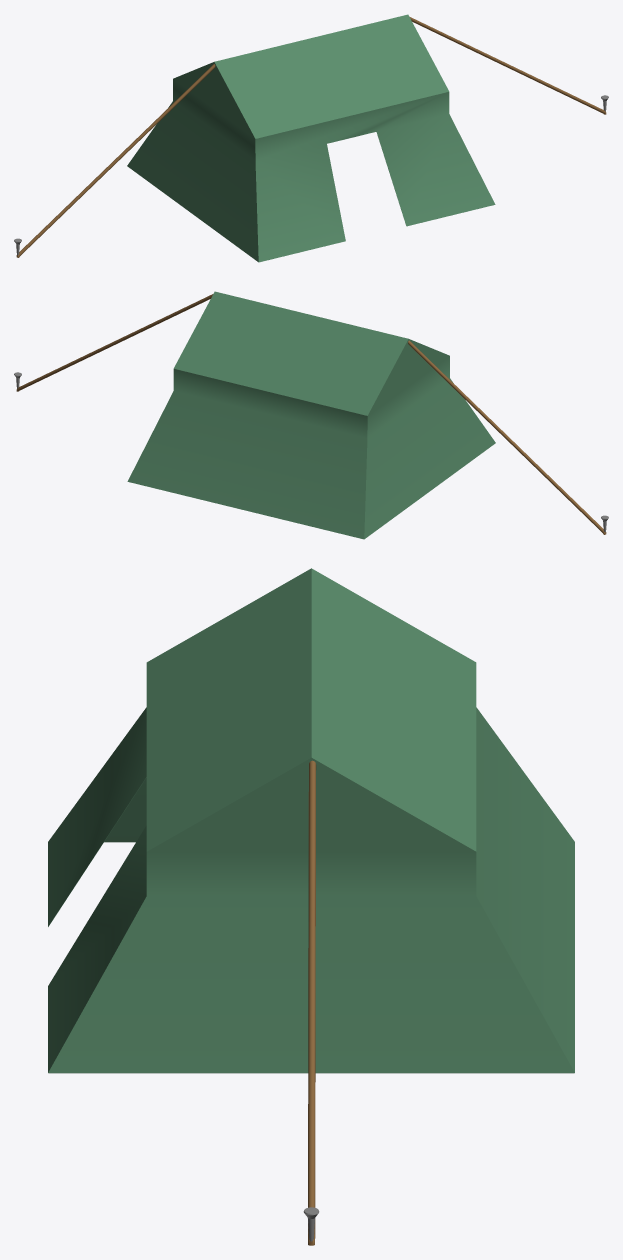
Rendered from Square_Tent_Green_FBX_Export.fbx.
The picture shows the model from 3 angles, top to bottom: view 1: azimuth 30°, elevation 25°; view 2: azimuth 150°, elevation 25°; view 3: azimuth 270°, elevation 25°; orthographic projection. The views are drawn at different scales.
Parts seen in each view (by area): view 1: Tent_2; view 2: Tent_2; view 3: Tent_2.
Part boxes in pixels (x1,y1,x2,y2): Tent_2: [14, 14, 608, 262]; Tent_2: [14, 291, 608, 539]; Tent_2: [48, 568, 574, 1245].
Size of the model in its own units: 19.85 by 4.71 by 7.63.
